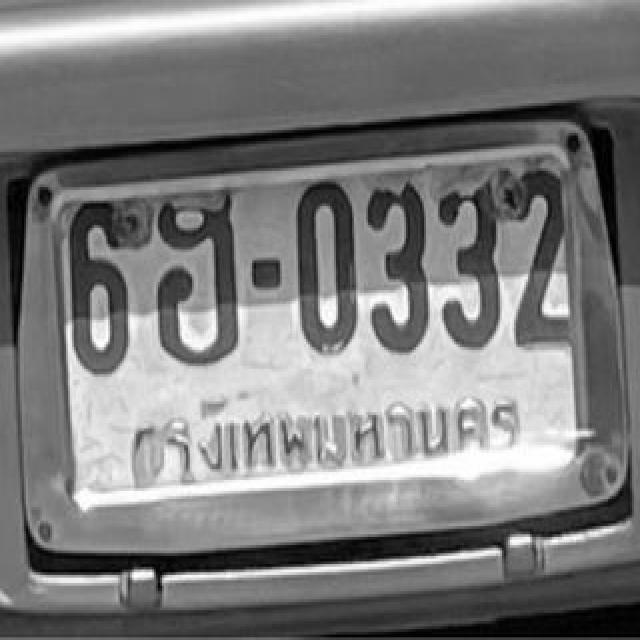license_plate: (25, 162, 616, 492)
